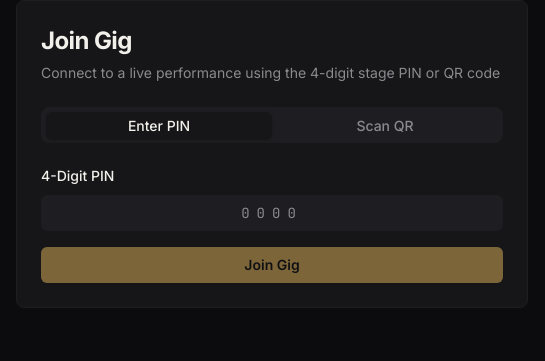
Test: JoinGigForm › shows error and does not redirect when gig_members insert fails
This screenshot has width=545, height=361.
Type "1234" into the field labelled "4-Digit PIN" at (272, 213), box [41,195,503,231]
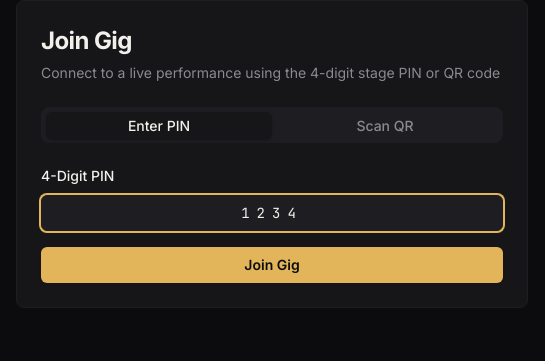
Click the button "Join Gig" at (272, 265), box [41,247,503,283]
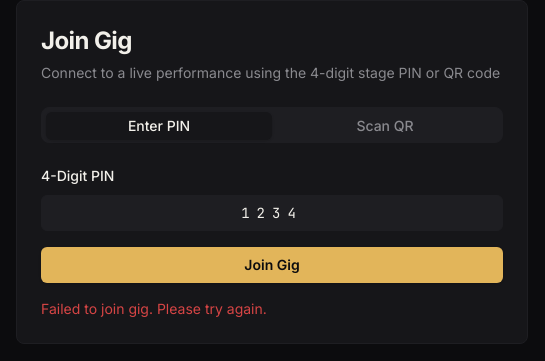
Result: the text "Failed to join gig. Please try again." is shown at [41,300,267,317]
